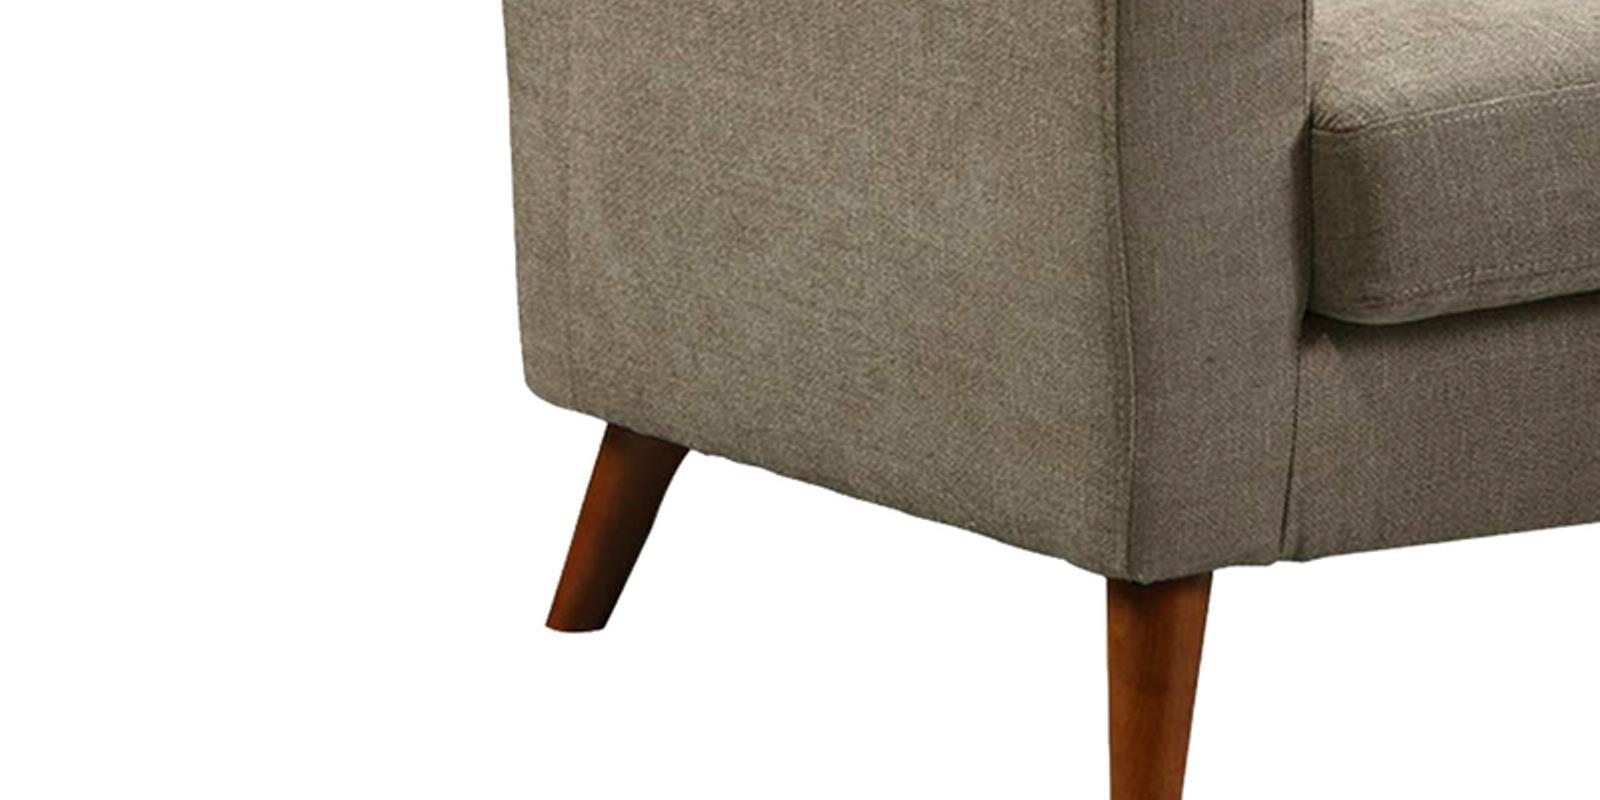Havana Three Seater Sofa in Ecru Colour by CasaCraft: (493, 5, 1600, 800)
